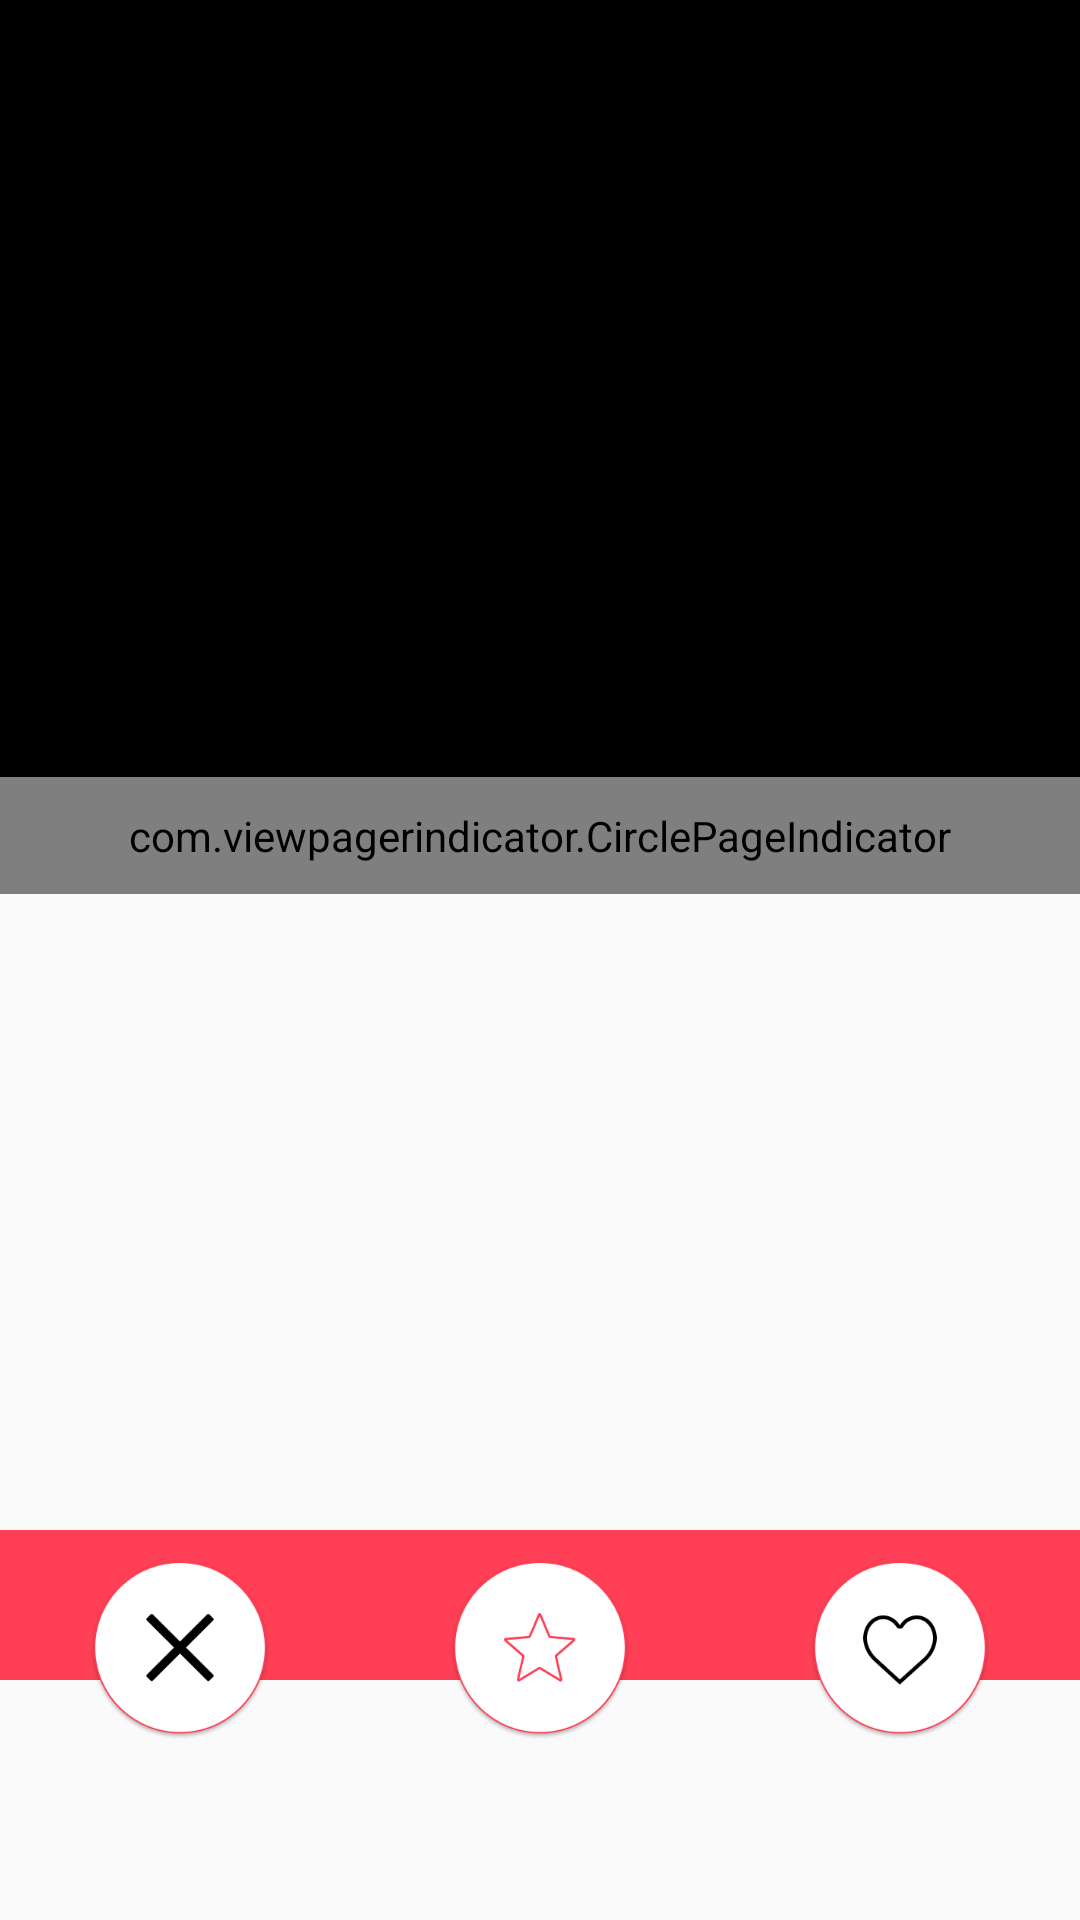

Point at icon controls on the screen. Image size 1080w x 1920h, points as [x,y].
profile reject: [180,1633]
superlike deactives: [540,1633]
